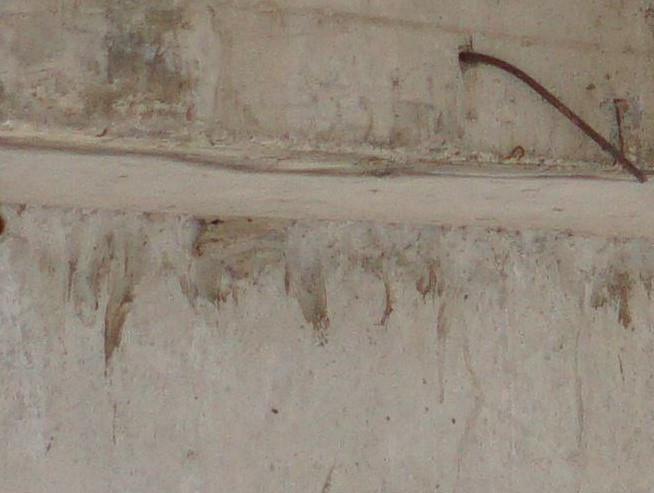Exposed reinforcement: (458, 51, 648, 185)
